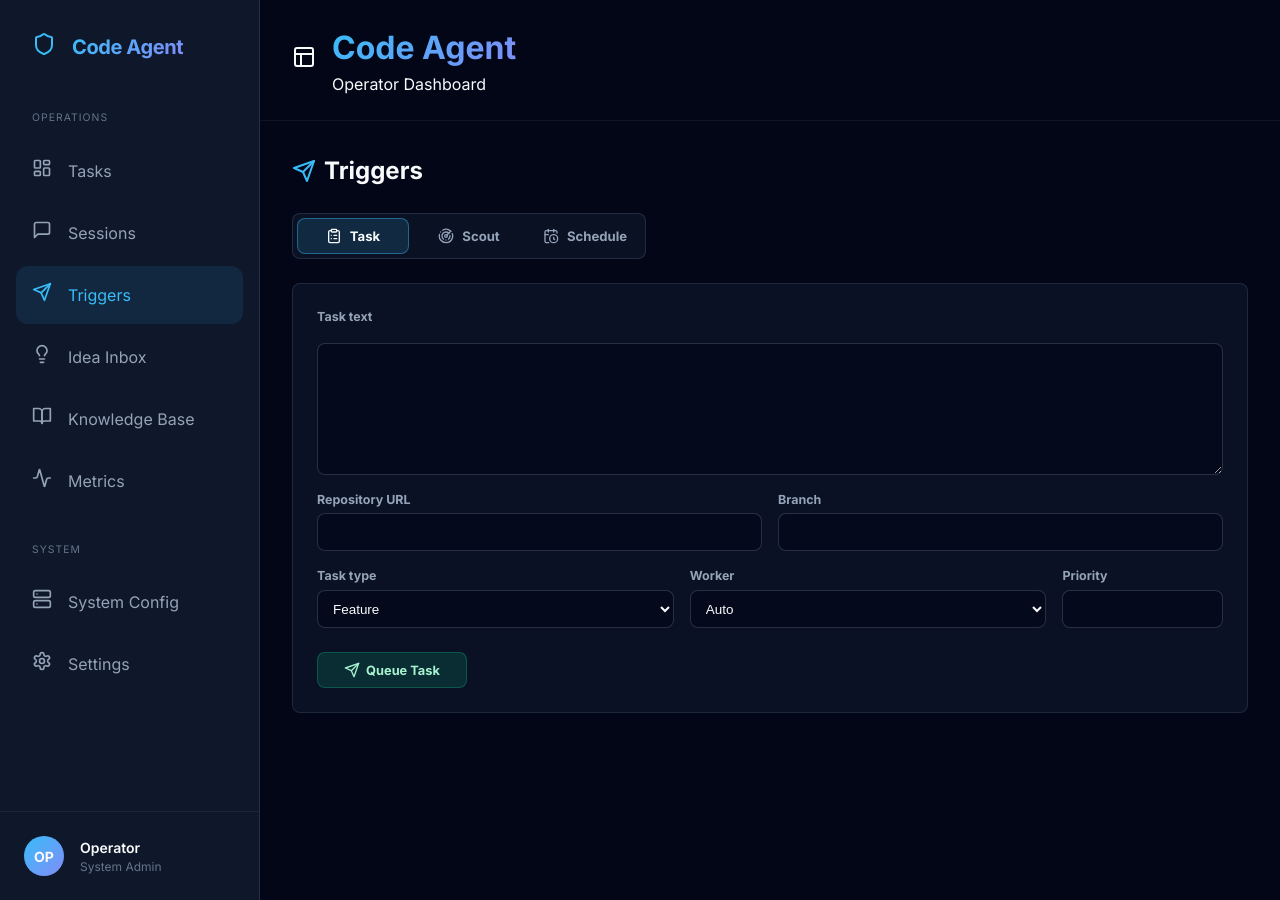
Test: TriggerActionsPage › rejects invalid task priority values before submitting
Type "Queue task with invalid priority" into the text box labelled "Task text". click: {"x": 770, "y": 409}
box: [317, 343, 1223, 475]
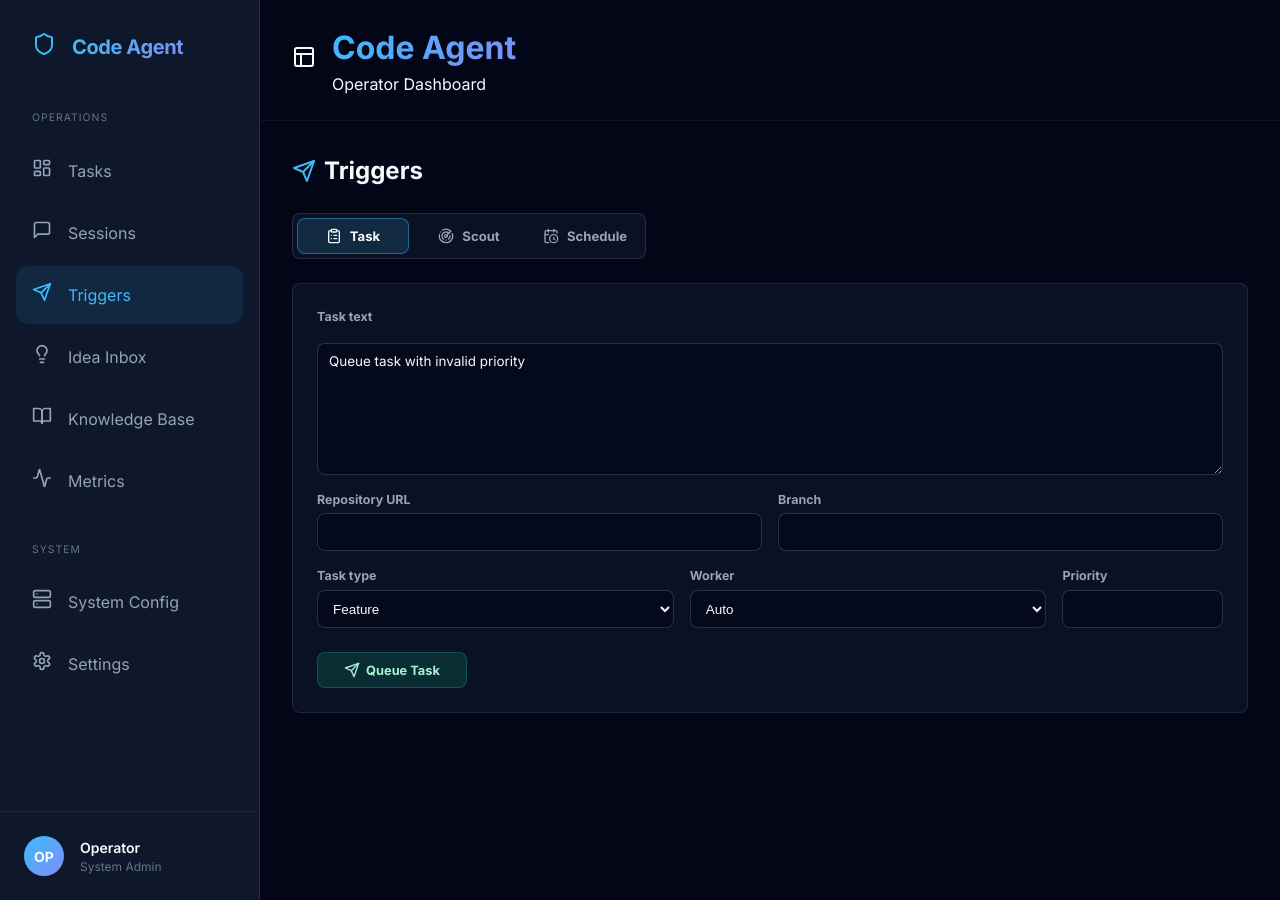
Type "-1" into the number field labelled "Priority". click: {"x": 1143, "y": 609}
box: [1062, 590, 1223, 628]
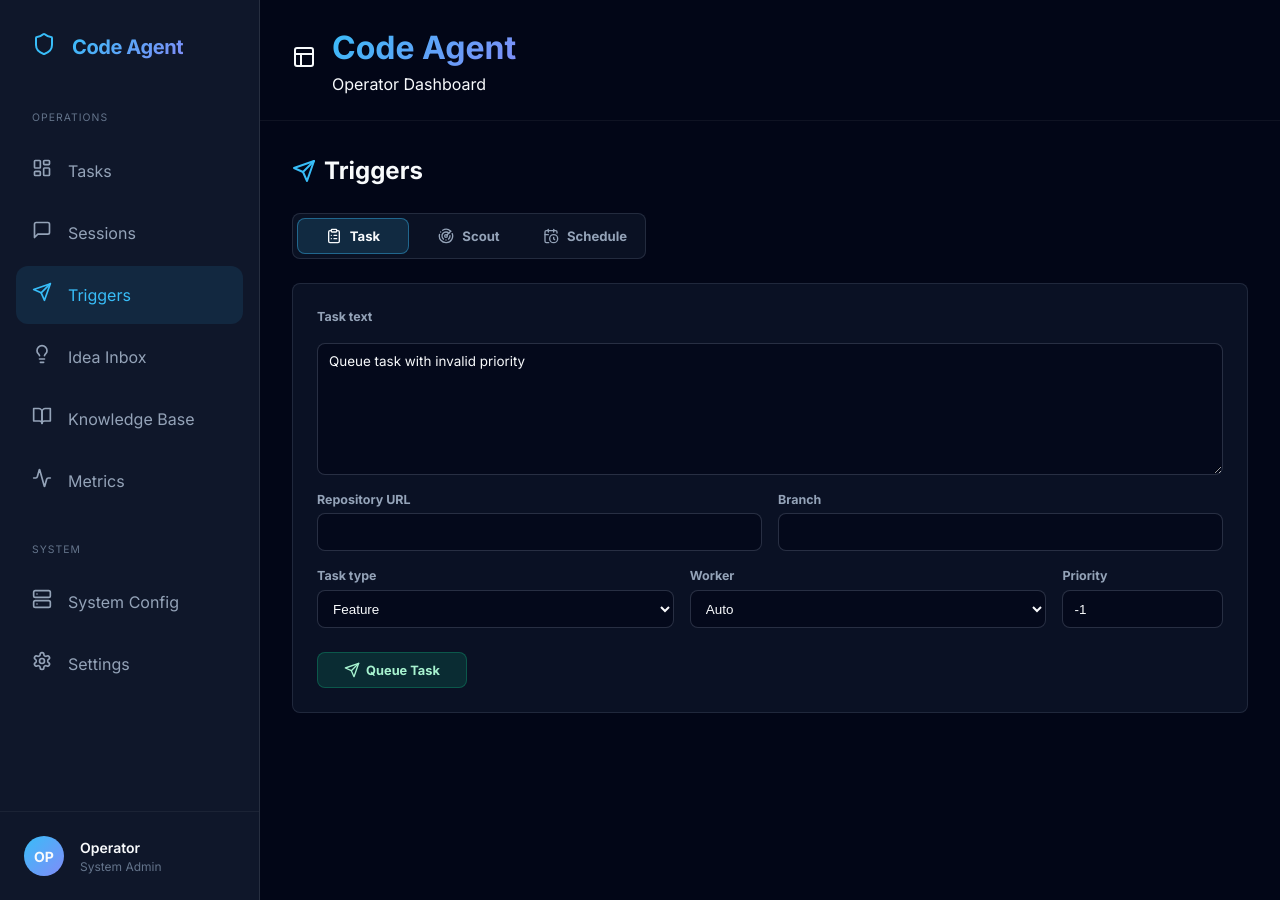
Submit the form, box [317, 308, 1223, 688]
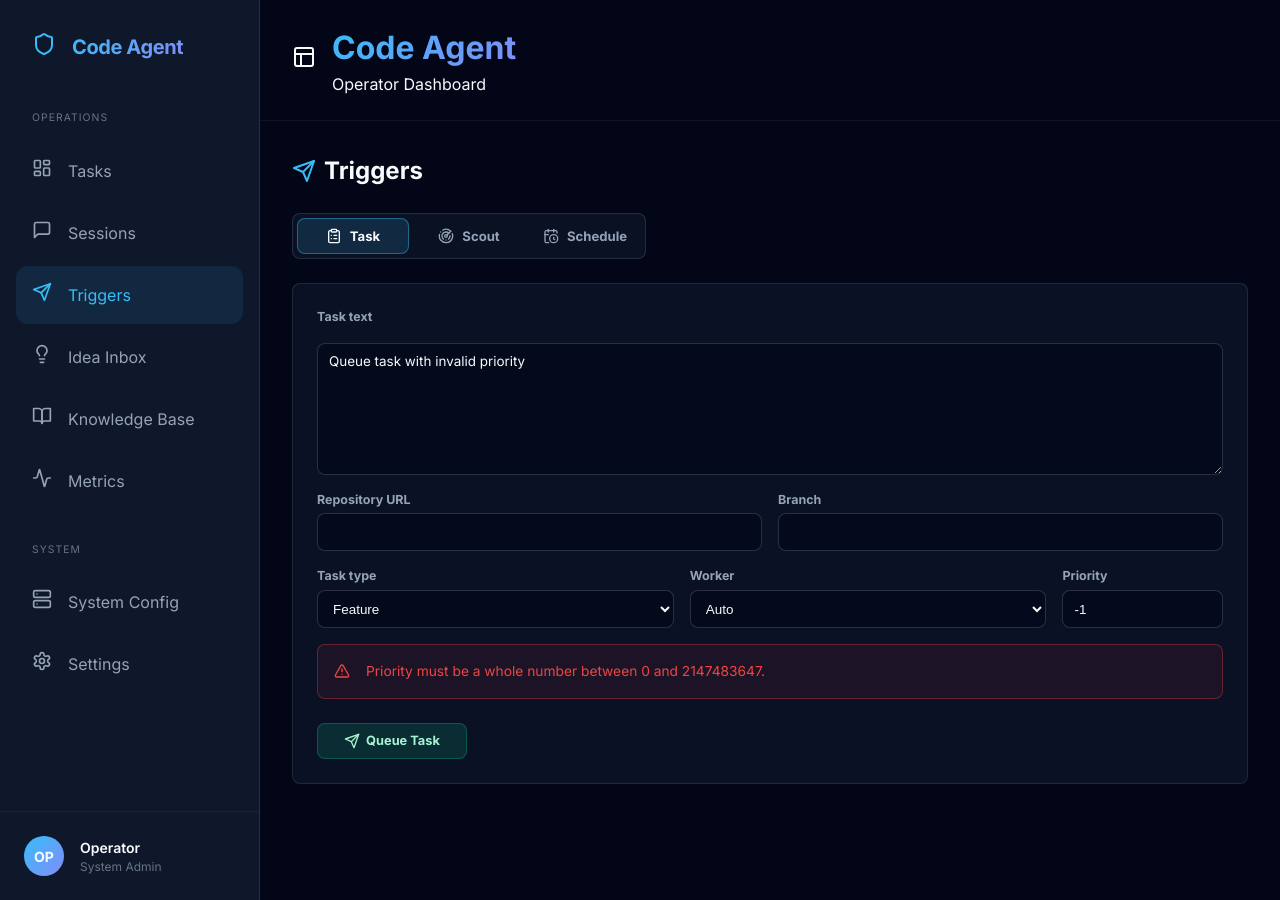
expect the message reads "Priority must be a whole number between 0 and 2147483647.": met, box [366, 663, 765, 679]
